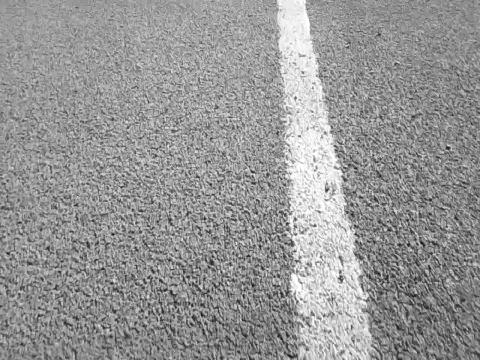Lines: (274, 0, 378, 360)
